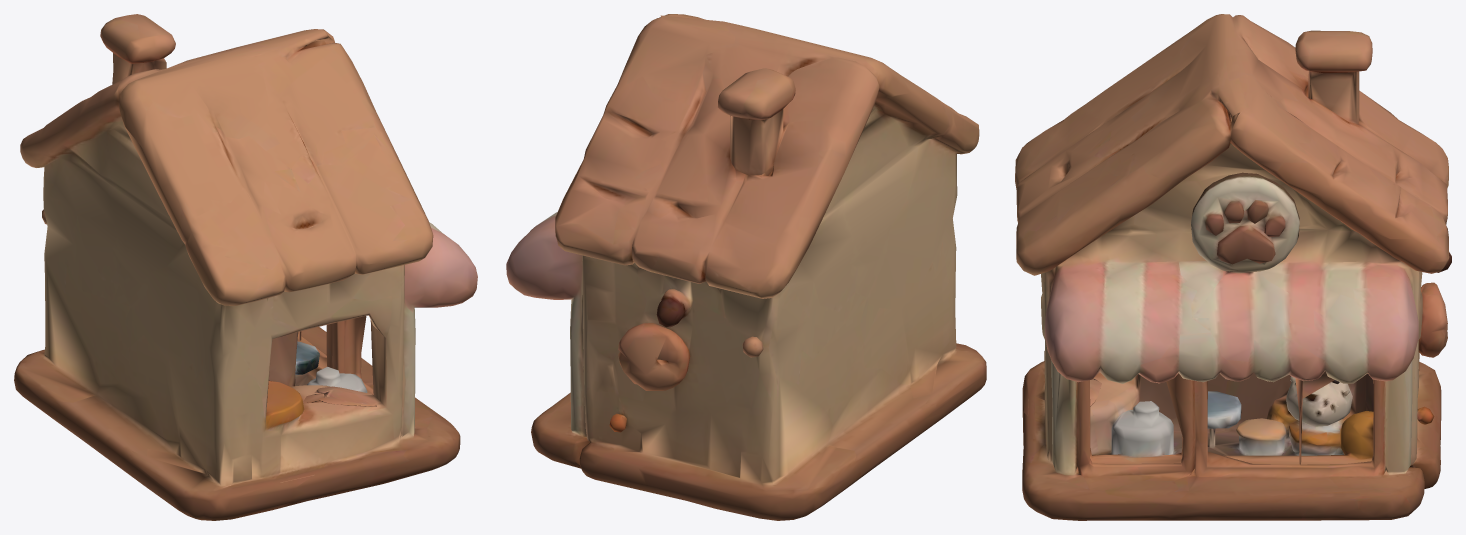
Rendered from street-petshop.glb.
3 renders of one model, left to right at view 1: azimuth 30°, elevation 25°; view 2: azimuth 150°, elevation 25°; view 3: azimuth 270°, elevation 25°, orthographic. The views are drawn at different scales.
Visible parts, largest first — view 1: tripo_node_ace062d2-bfab-4304-9b5a-2d6f1ef7a19e; view 2: tripo_node_ace062d2-bfab-4304-9b5a-2d6f1ef7a19e; view 3: tripo_node_ace062d2-bfab-4304-9b5a-2d6f1ef7a19e.
Boxes of the visible parts, x1,y1,x2,y2 form: tripo_node_ace062d2-bfab-4304-9b5a-2d6f1ef7a19e: [14, 14, 477, 520]; tripo_node_ace062d2-bfab-4304-9b5a-2d6f1ef7a19e: [506, 14, 986, 520]; tripo_node_ace062d2-bfab-4304-9b5a-2d6f1ef7a19e: [1015, 14, 1451, 520].
Bounding box in the file's own units: 0.8426 × 0.9955 × 1.
Materials: 1 (1 with a texture image).
